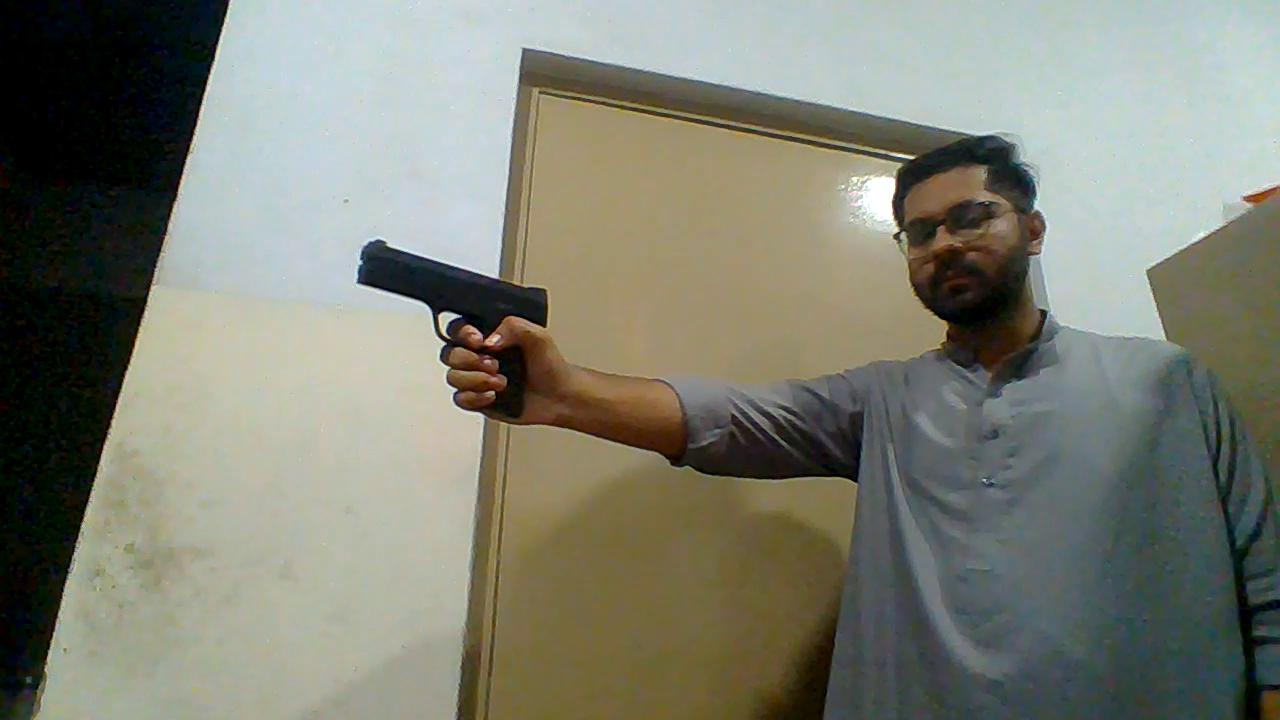criminal: (354, 134, 1280, 720)
weapon: (353, 237, 551, 424)
